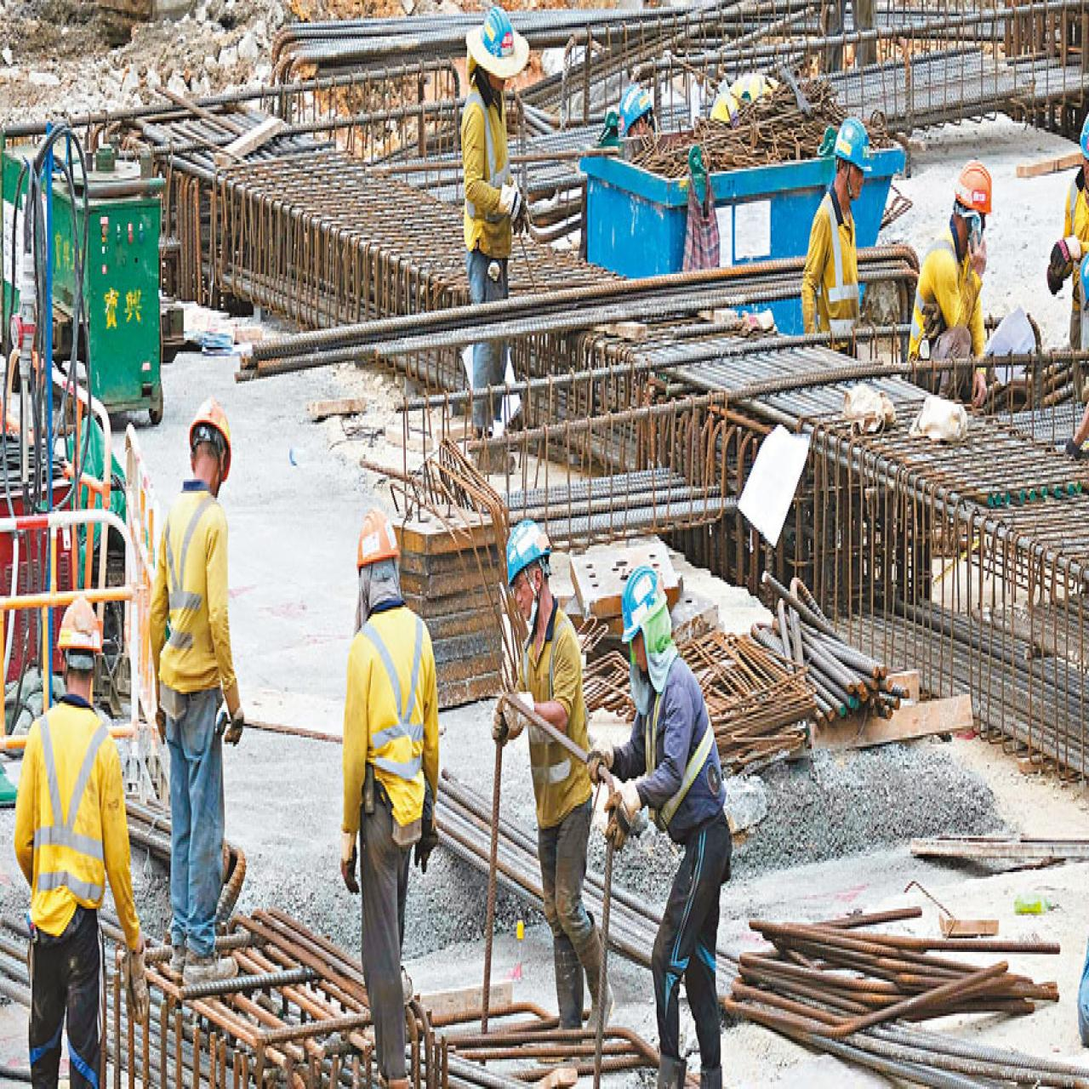NO_Safety_Vest: (21, 695, 123, 939), (340, 600, 438, 850), (150, 487, 236, 704), (514, 609, 596, 825), (635, 664, 720, 833), (909, 229, 984, 371), (807, 185, 866, 346), (462, 83, 510, 251), (1061, 157, 1089, 267)
Person: (483, 504, 626, 1068), (318, 492, 450, 1089), (7, 575, 160, 1089), (135, 377, 264, 986), (594, 549, 738, 1089), (454, 0, 531, 453), (899, 142, 1001, 402), (801, 115, 874, 359)
